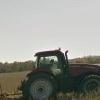Tractor: (13, 41, 100, 100)
